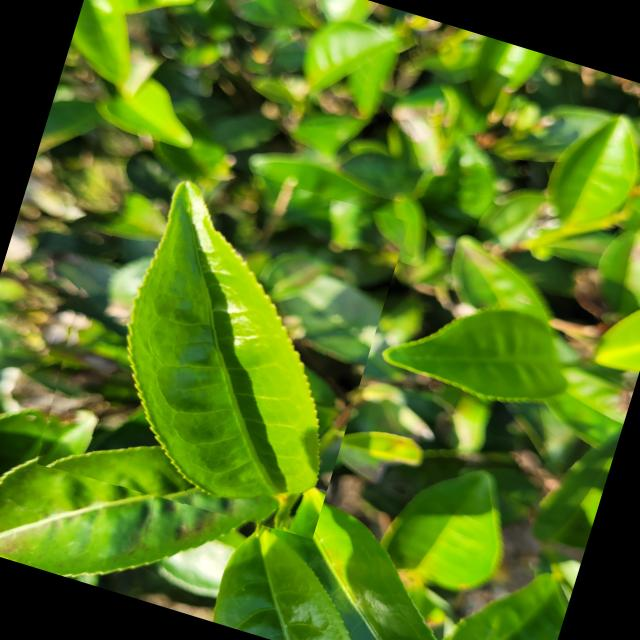Category B(2-4 days): (19, 133, 408, 547)
